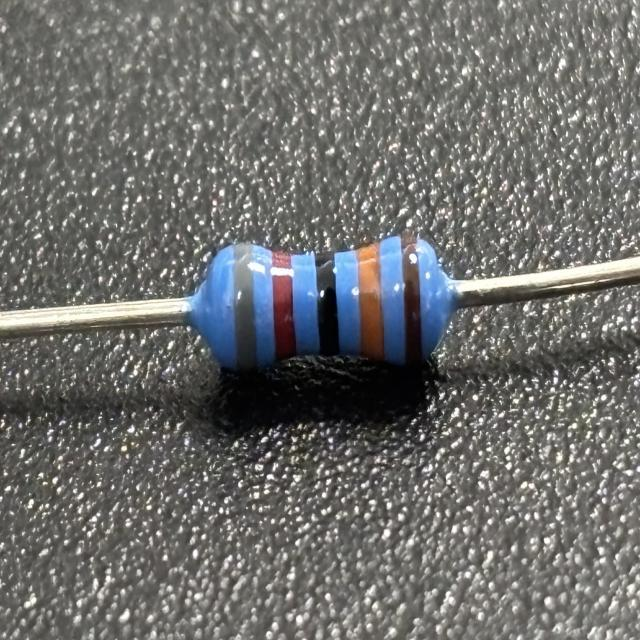resistor: (212, 232, 442, 373)
